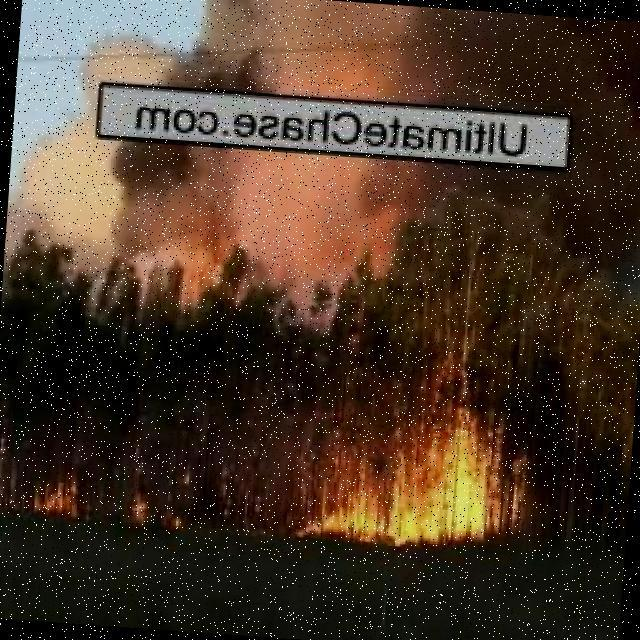Fire: (314, 399, 490, 545), (127, 462, 192, 531), (194, 215, 236, 279), (34, 484, 83, 521)
